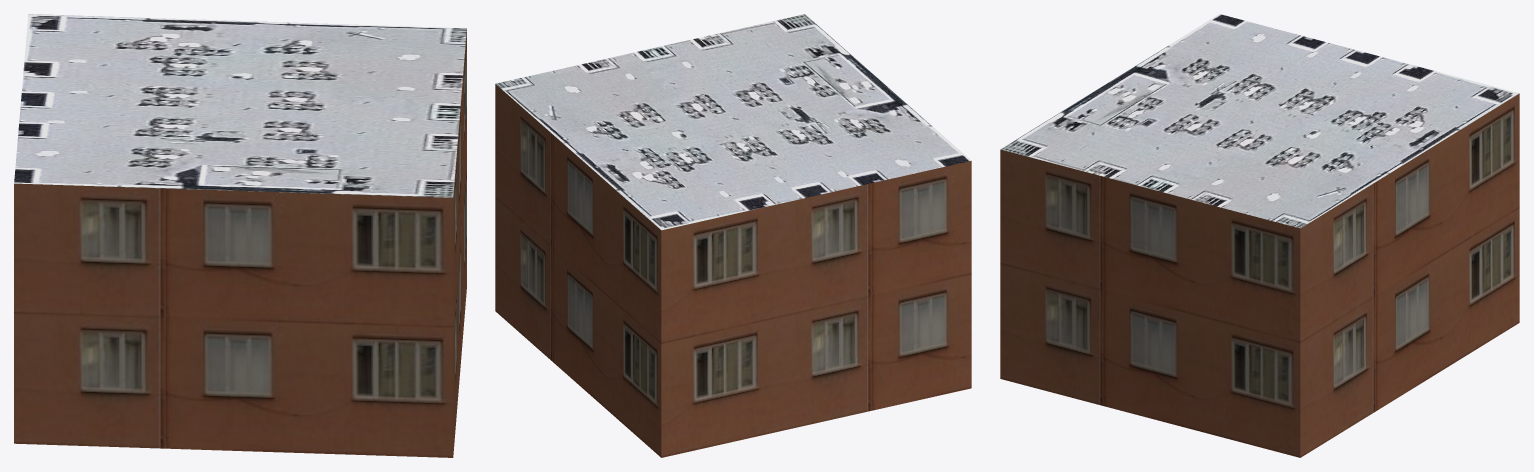
File: ResTex__1779.fbx
3 renders of one model, left to right at view 1: azimuth 30°, elevation 25°; view 2: azimuth 150°, elevation 25°; view 3: azimuth 270°, elevation 25°, orthographic. The views are drawn at different scales.
Visible parts, largest first — view 1: CityEngineMaterial_20_m, CityEngineMaterial_4_m; view 2: CityEngineMaterial_20_m, CityEngineMaterial_4_m; view 3: CityEngineMaterial_20_m, CityEngineMaterial_4_m.
Boxes of the visible parts, left/top/right/bottom form: CityEngineMaterial_20_m: left=14, top=29, right=466, bottom=457; CityEngineMaterial_4_m: left=14, top=14, right=466, bottom=197; CityEngineMaterial_20_m: left=495, top=84, right=971, bottom=457; CityEngineMaterial_4_m: left=496, top=14, right=971, bottom=230; CityEngineMaterial_20_m: left=1000, top=93, right=1519, bottom=457; CityEngineMaterial_4_m: left=1000, top=14, right=1519, bottom=228.
Size of the model in its own units: 12.03 by 6 by 12.31.
Materials: 2 (2 with a texture image).
